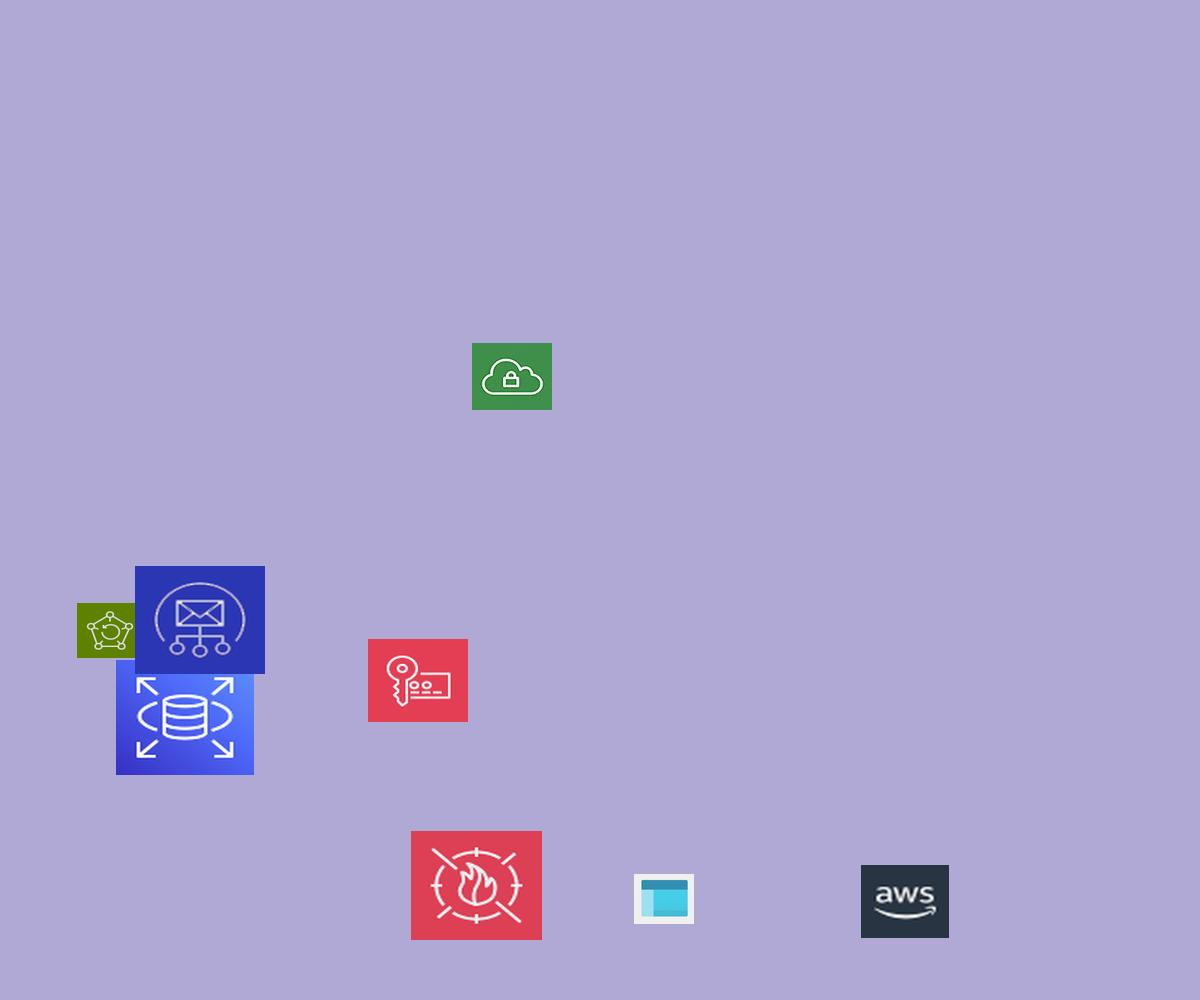AWS-Backup: (77, 603, 143, 658)
AWS-Cloud-logo: (861, 865, 949, 938)
AWS-Key-Management-Service: (368, 639, 468, 722)
AWS-Private_vpc: (472, 343, 552, 410)
AWS-RDS: (116, 660, 254, 775)
AWS-Simple-Email-Service: (135, 566, 265, 674)
AWS-WAF: (411, 831, 542, 940)
Azure_management-portal: (634, 874, 694, 924)
